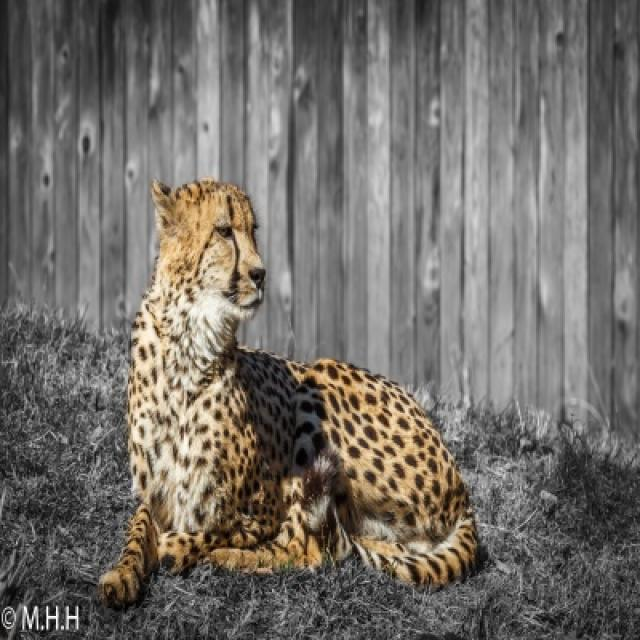Cheetah: (99, 179, 477, 603)
